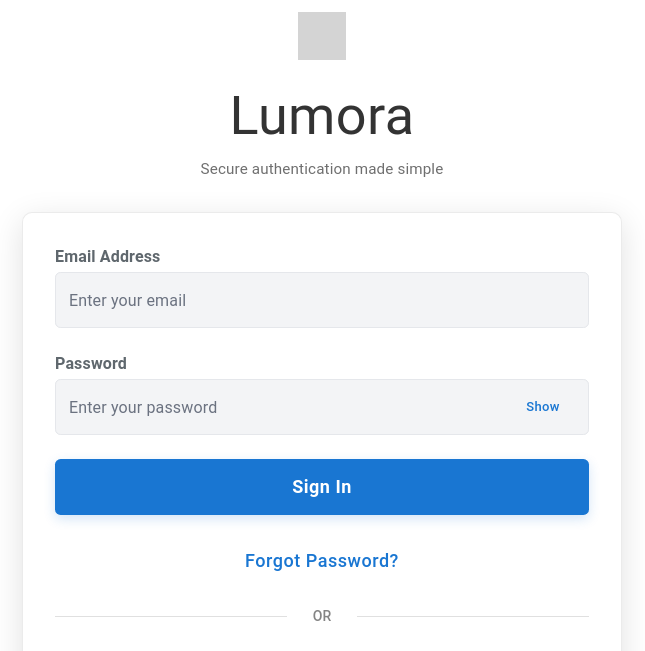
LumoraLogin Component › Form Validation › should clear validation errors when user starts typing
Click the button "Sign In": (322, 487) top-left (55, 460), bottom-right (589, 515)
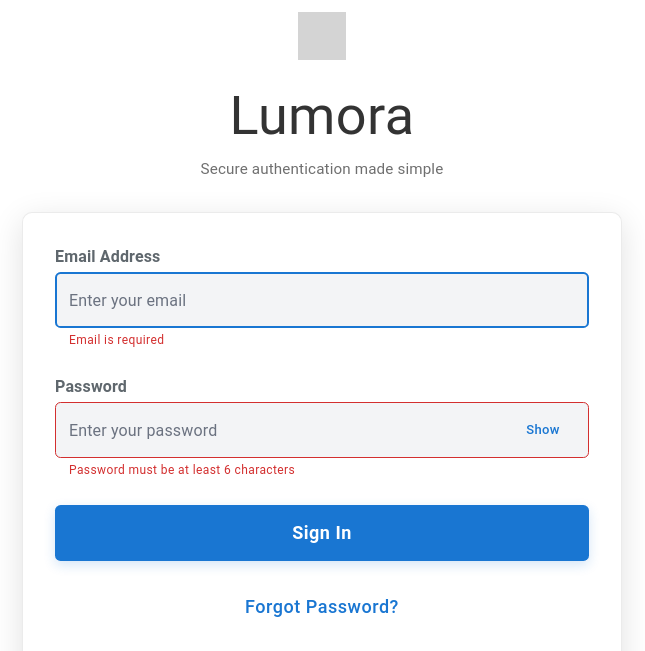
Expected: the text "Email is required" is shown, top-left (69, 334), bottom-right (164, 348)
Start typing in email field
In the field labelled "Email Address": (322, 300) top-left (55, 272), bottom-right (589, 328), type "test@example.com"
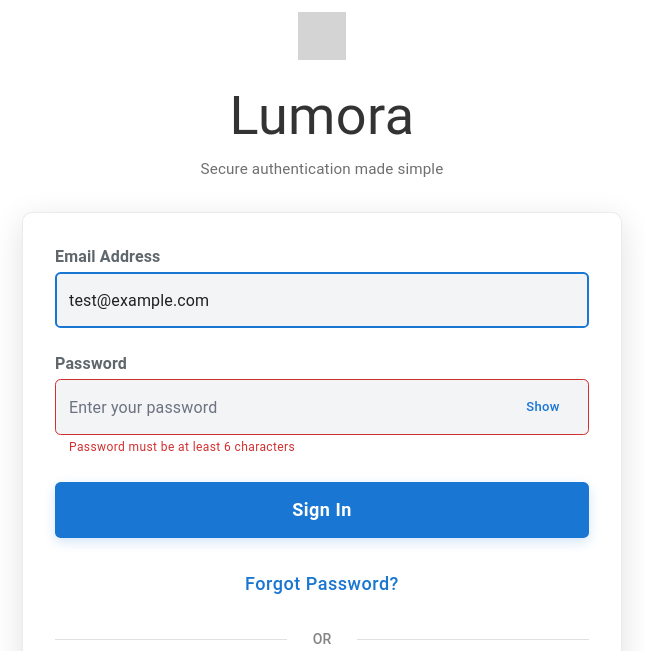
Expected: the text "Email is required" is gone
